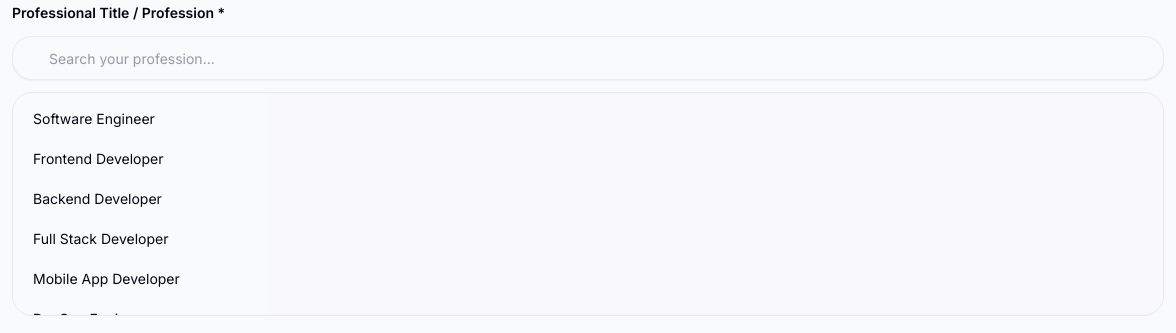
Scenario: ProfessionSelector Component Integration › shows no-results state when search query matches nothing
Type "NonExistentProfession123" into the field with placeholder "Search your profession..." at (588, 58), box [12,36,1164,80]
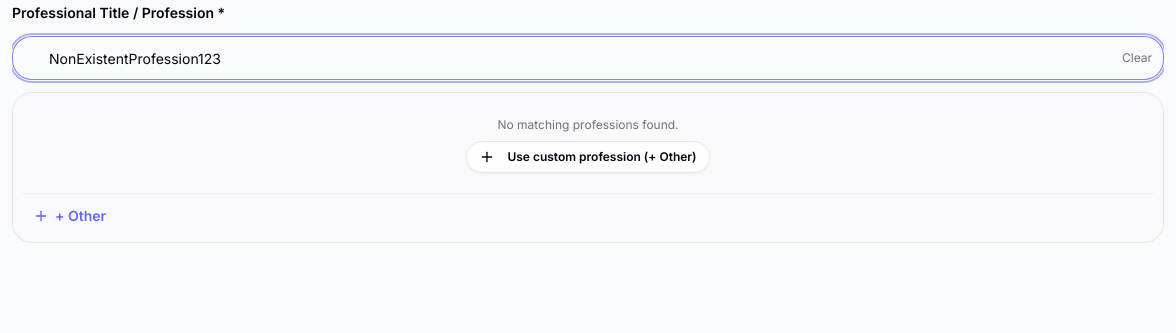
Check: the text "No matching professions found." is shown, box [497,117,679,132]
Check: the button "Use custom profession (+ Other)" is shown, box [466,141,710,173]
